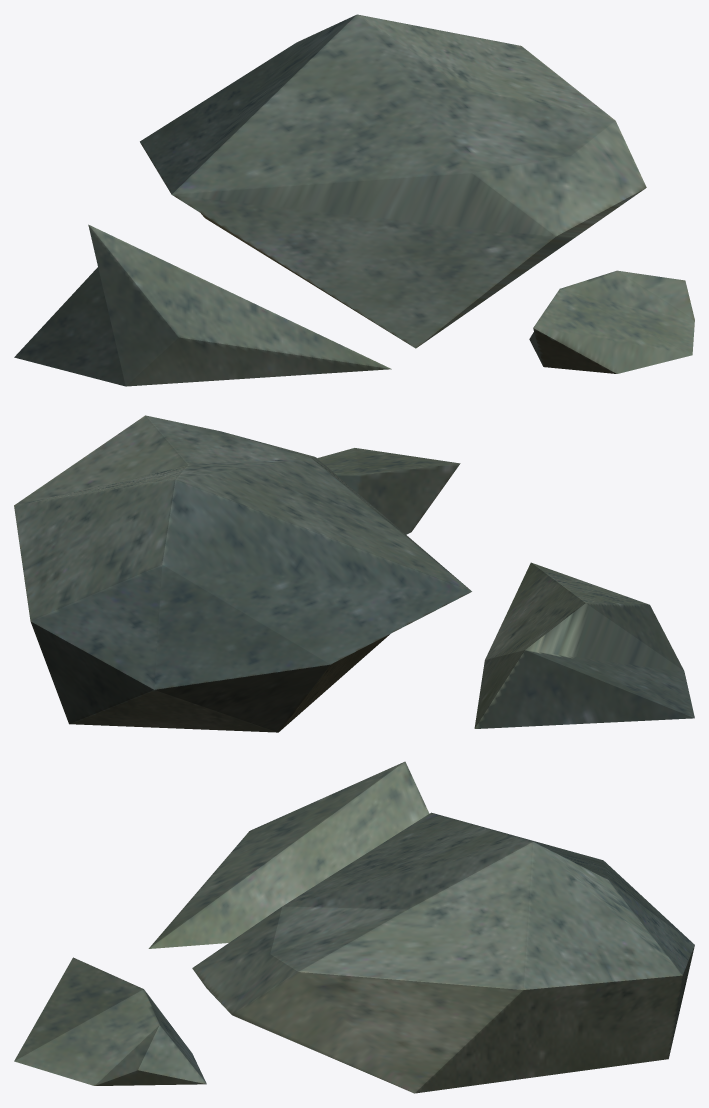
File: SM_SmallRocks.glb
3 renders of one model, top to bottom at view 1: azimuth 30°, elevation 25°; view 2: azimuth 150°, elevation 25°; view 3: azimuth 270°, elevation 25°, orthographic. The views are drawn at different scales.
Visible parts, largest first — view 1: SM_Small_Rocks; view 2: SM_Small_Rocks; view 3: SM_Small_Rocks.
Boxes of the visible parts, x1,y1,x2,y2 form: SM_Small_Rocks: (14, 14, 694, 386); SM_Small_Rocks: (14, 415, 694, 732); SM_Small_Rocks: (14, 761, 694, 1093).
Size of the model in its own units: 10.97 by 3.68 by 10.88.
1 material, 1 textured.
